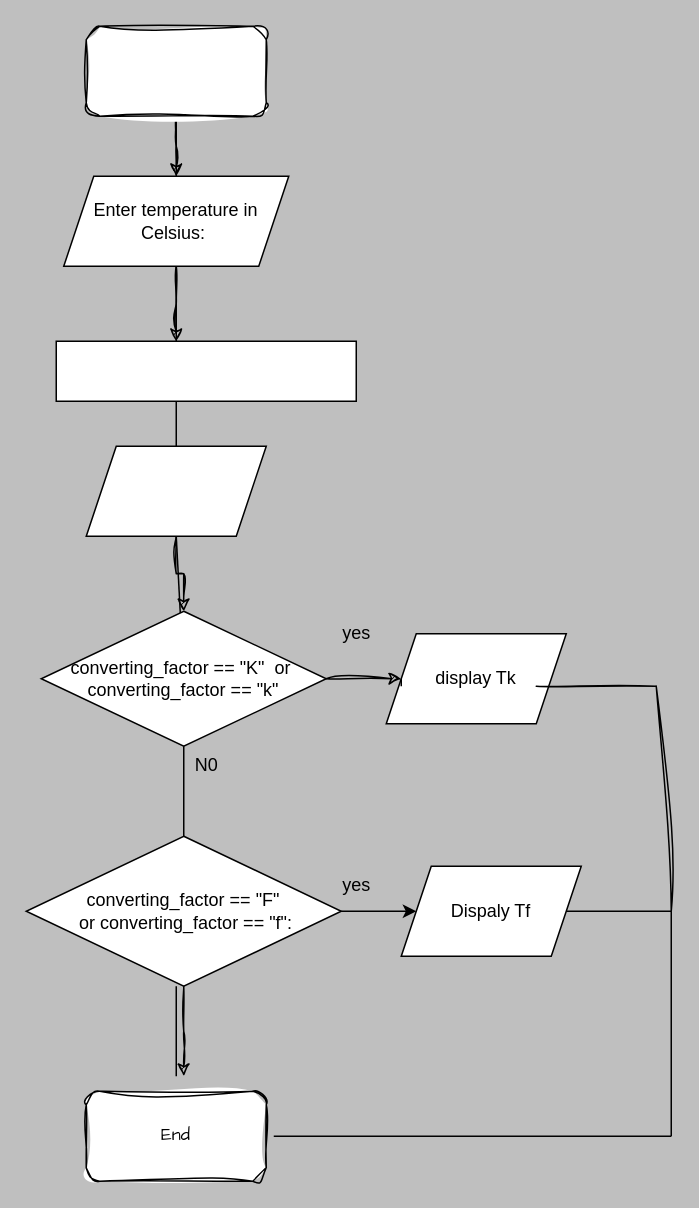
The diagram is 699 pixels wide and 1208 high, and some of its shapes have lost their labels. Here are the shapes that lost their labels. From the top down, the centre of each, then its label:
At pixel 175 70: "Start".
At pixel 205 370: "Tf = (9/5)*Tc+32 Tk = Tc + 273.15".
At pixel 175 490: "Do you want to convert K or F ?:".
